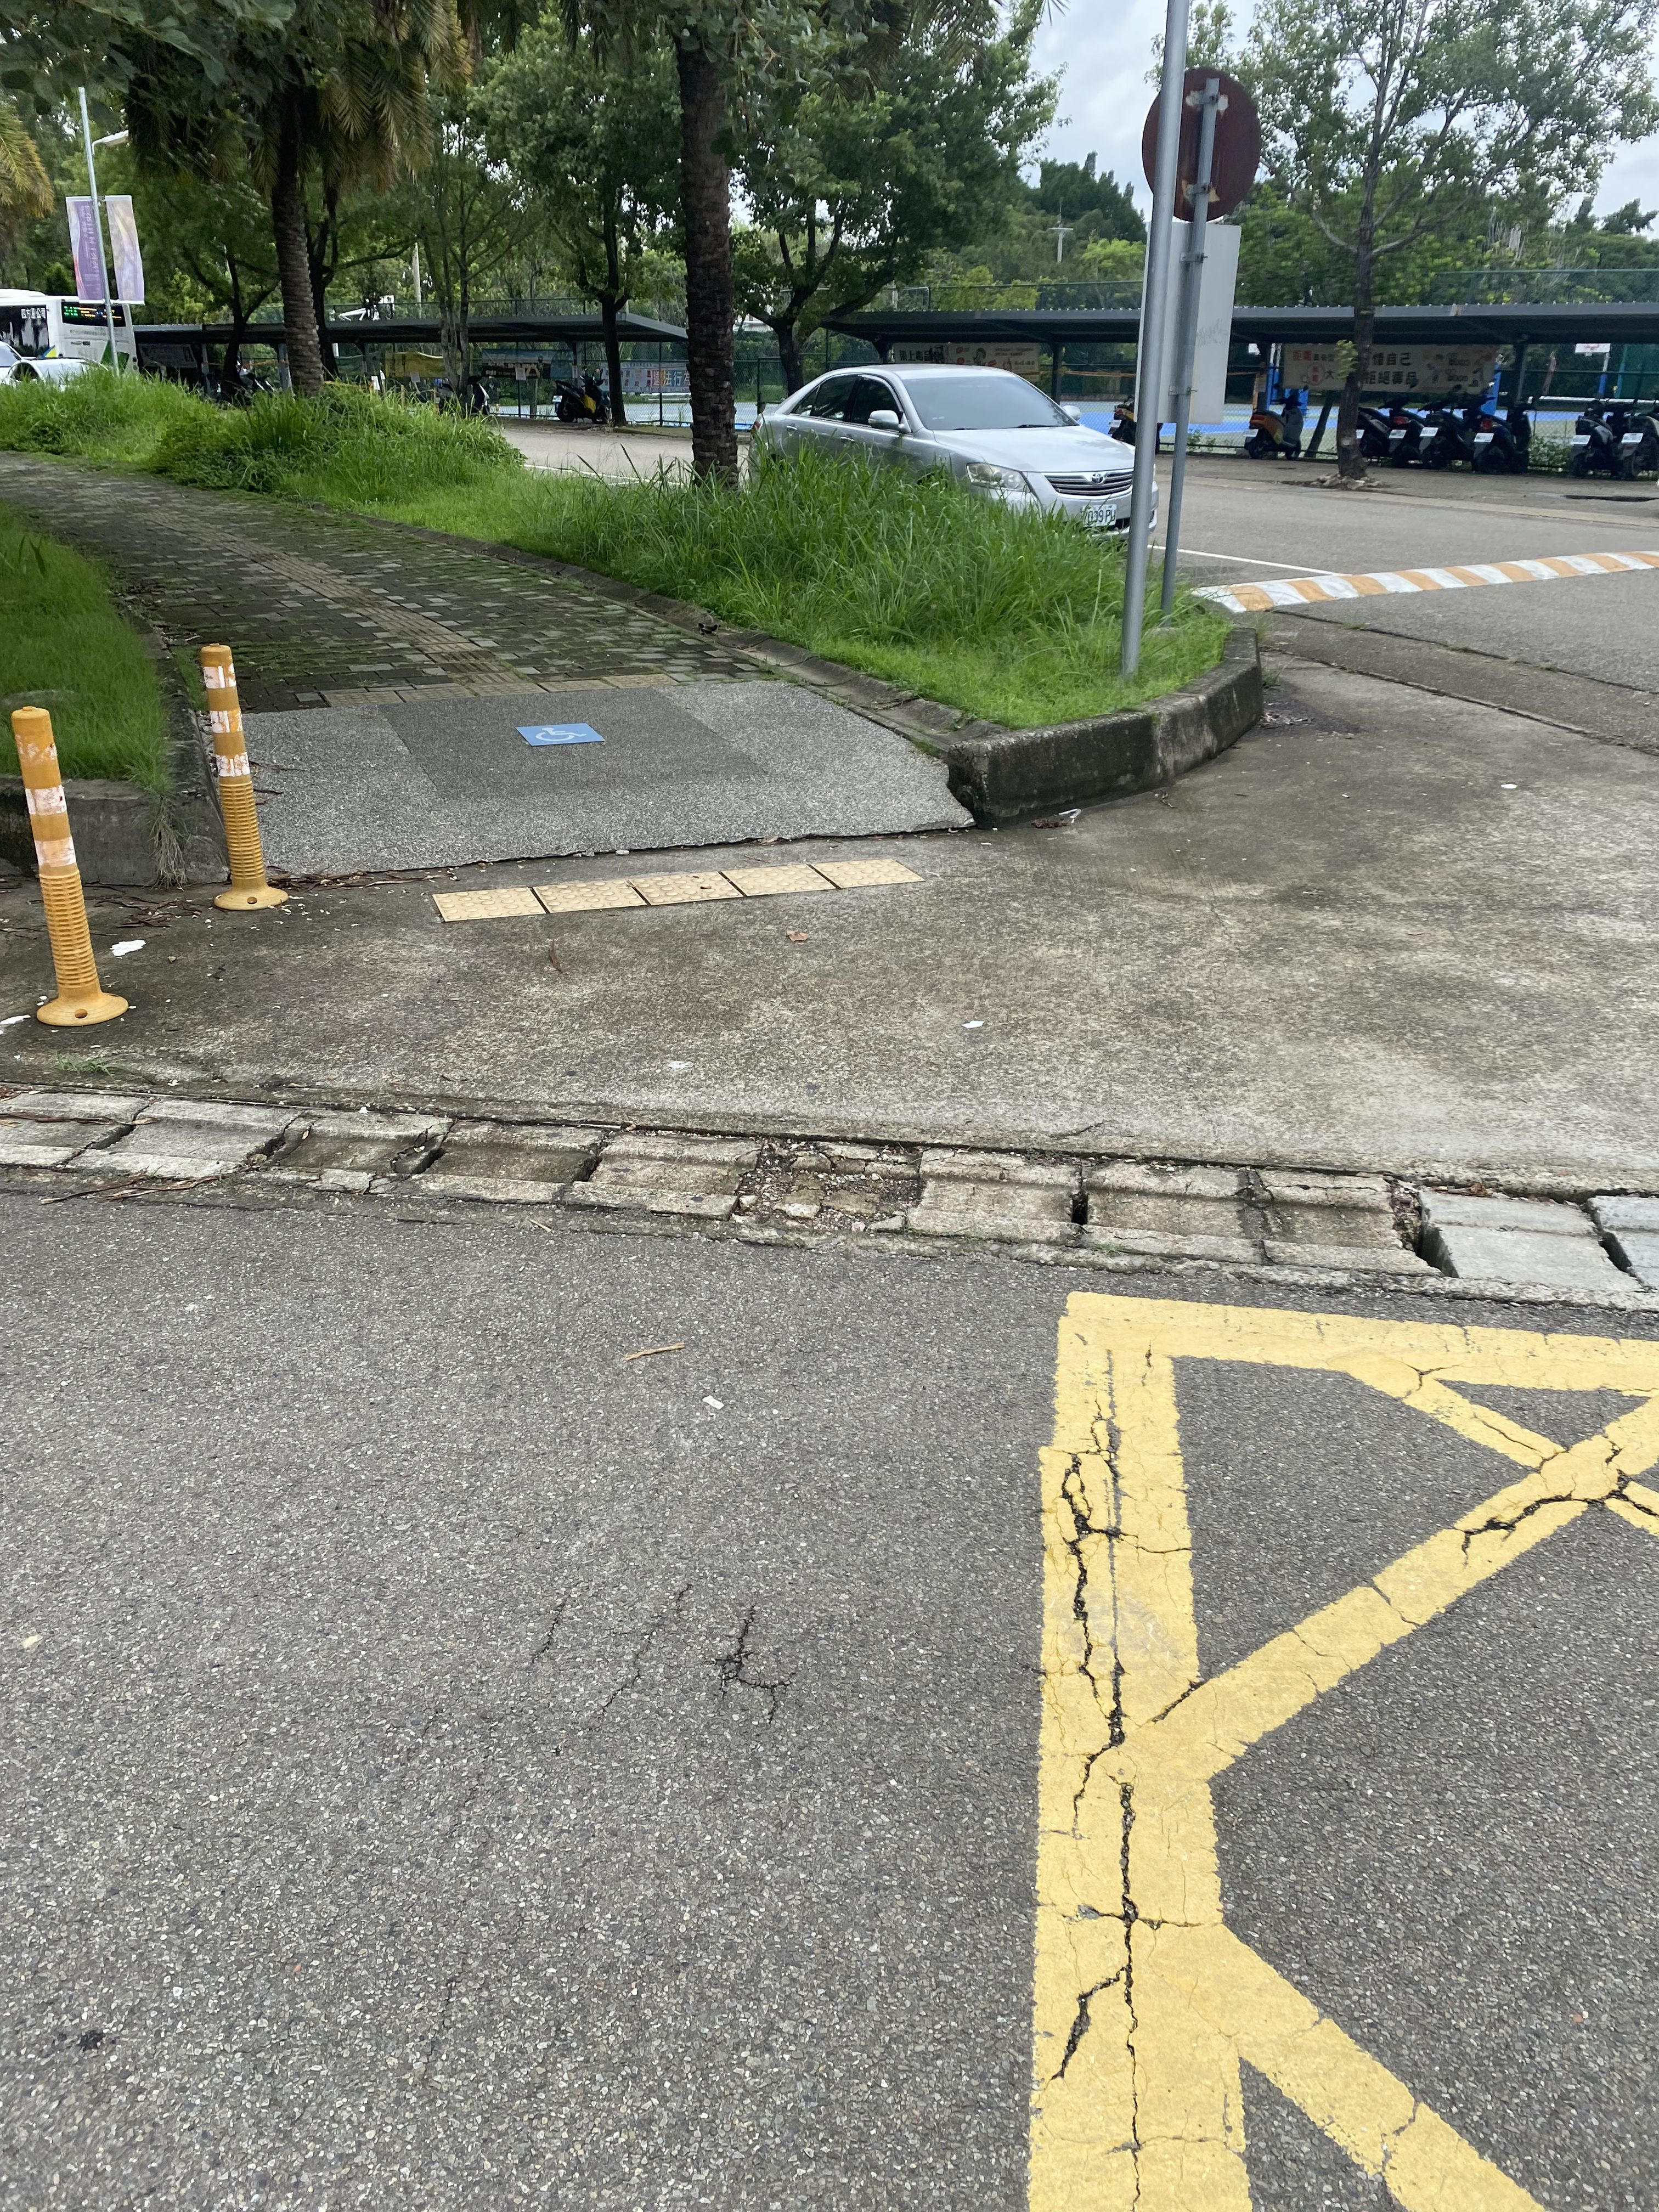sidewalk: (0, 442, 1033, 881)
